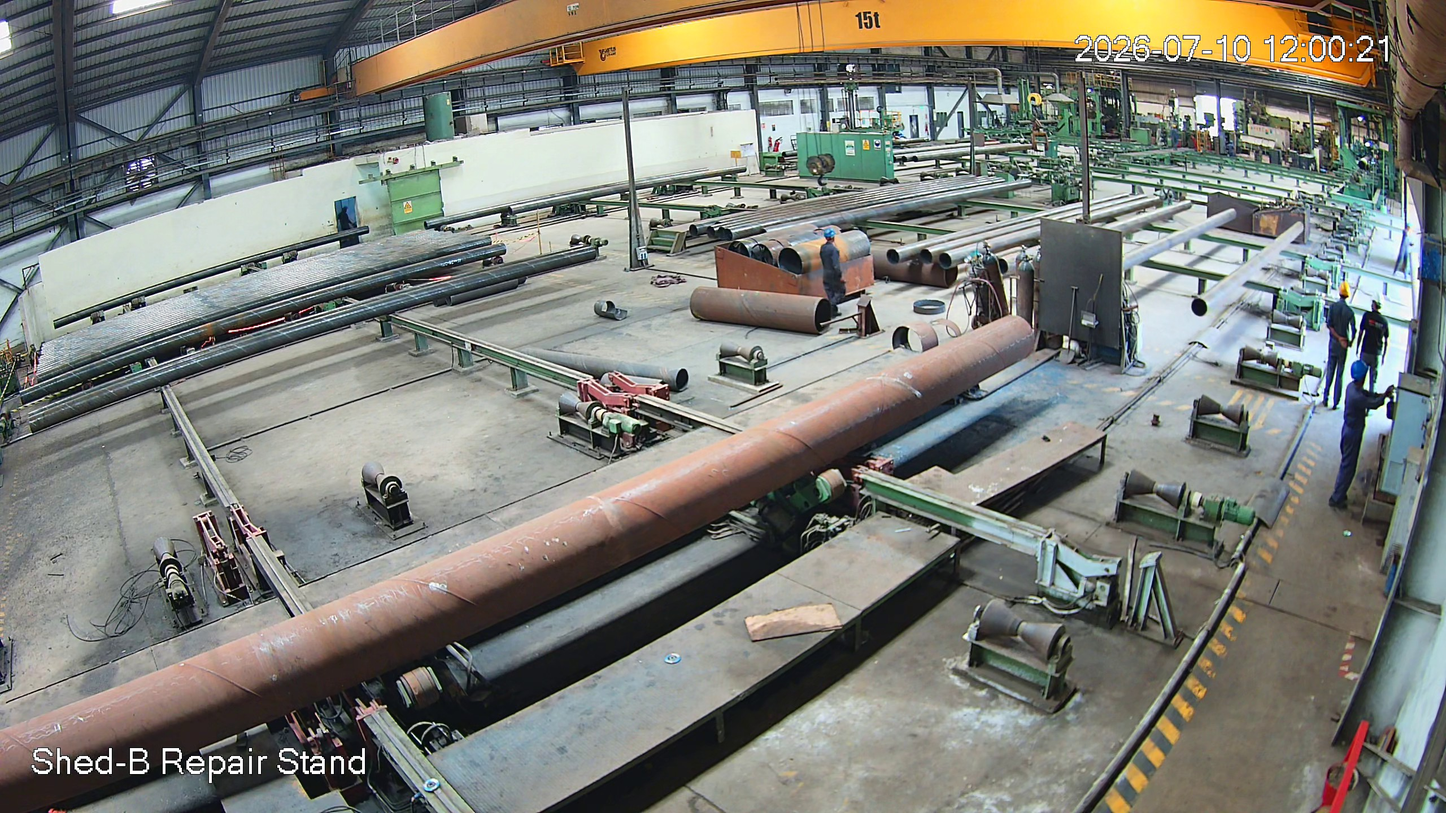Helmet: (1344, 361, 1375, 401), (1335, 279, 1354, 303), (820, 223, 836, 250)
Person: (1328, 363, 1385, 522), (1317, 281, 1359, 414), (1357, 290, 1390, 390), (815, 226, 852, 315)
